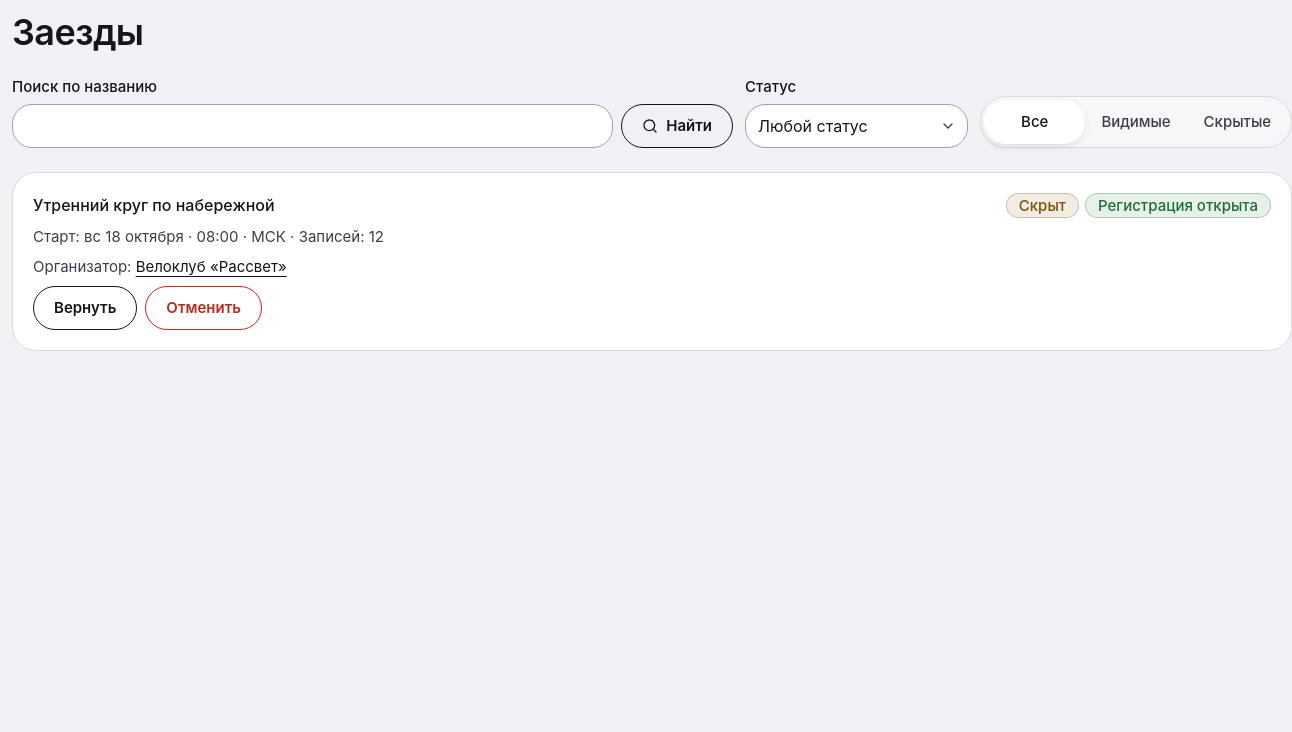
Test: AdminRidesList › reports a failed unhide
The image size is (1292, 732).
Click the button "Вернуть": (85,308) top-left (33, 286), bottom-right (137, 330)
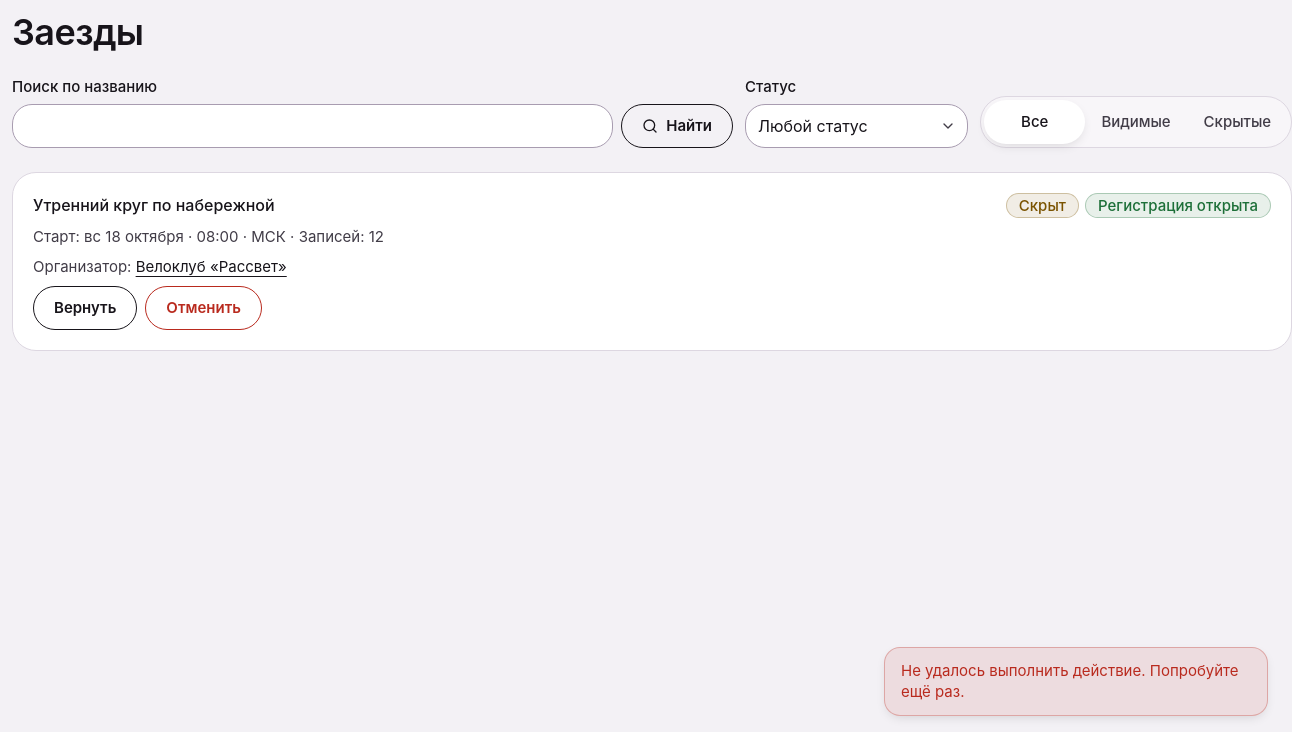
Check: the text "Скрыт" is shown, box top-left (1006, 193), bottom-right (1079, 218)
Check: the text "Не удалось выполнить действие. Попробуйте ещё раз." is shown, box top-left (901, 660), bottom-right (1251, 703)
